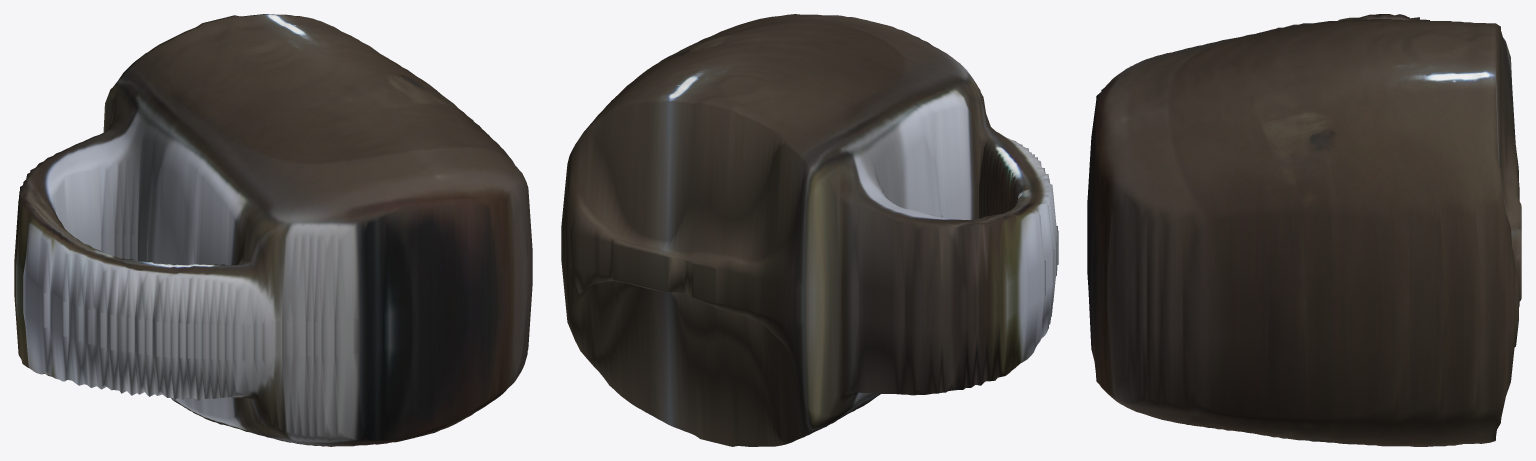
File: mug_5_2.obj
3 renders of one model, left to right at view 1: azimuth 30°, elevation 25°; view 2: azimuth 150°, elevation 25°; view 3: azimuth 270°, elevation 25°, orthographic. The views are drawn at different scales.
Parts seen in each view (by area): view 1: Grid; view 2: Grid; view 3: Grid.
Boxes of the visible parts, x1,y1,x2,y2 form: Grid: (14, 14, 532, 446); Grid: (561, 14, 1058, 446); Grid: (1087, 14, 1521, 446).
Bounding box in the file's own units: 1.82 × 1.4 × 1.48.
